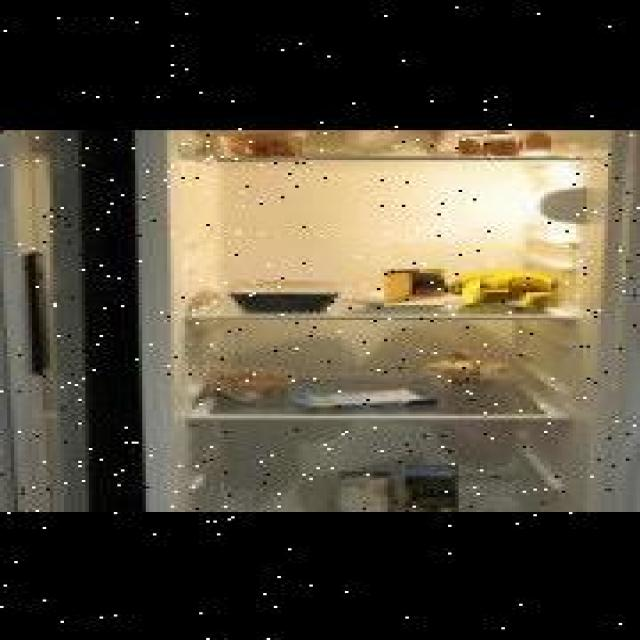banana: (464, 278, 528, 308), (482, 272, 553, 289)
bread: (219, 133, 304, 159)
cheese: (384, 270, 444, 304)
egg: (485, 131, 521, 153), (523, 130, 551, 154), (460, 134, 489, 154)
milk: (338, 463, 394, 512), (402, 463, 458, 512)
onion: (473, 495, 512, 512), (462, 499, 505, 512), (505, 499, 547, 512), (487, 501, 526, 512)
